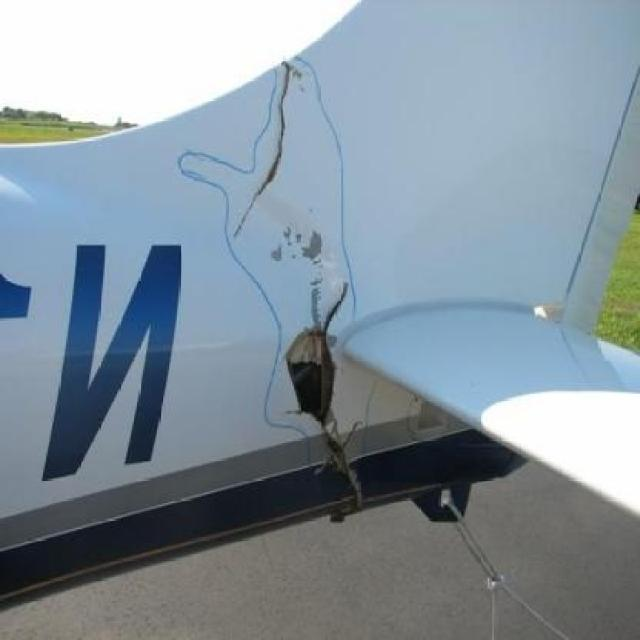crack: (235, 101, 315, 261)
